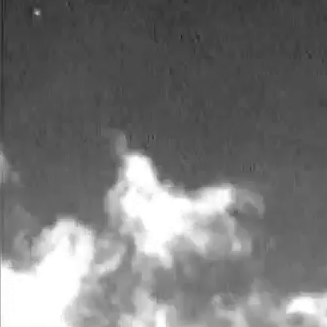Target: (35, 12, 40, 15)
